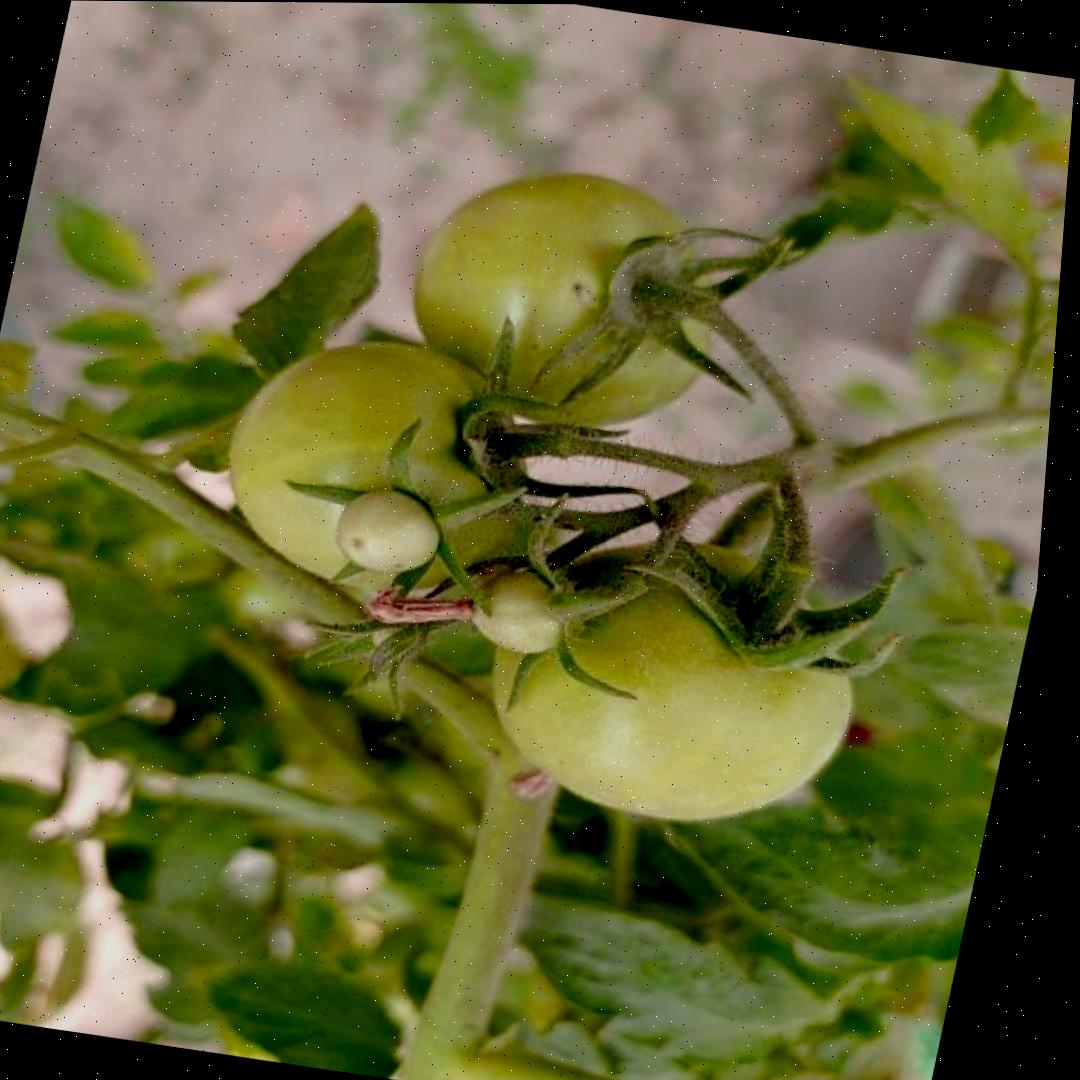mentah: (456, 514, 887, 846), (376, 147, 754, 456), (195, 321, 557, 615), (324, 481, 451, 580), (457, 565, 584, 661)
